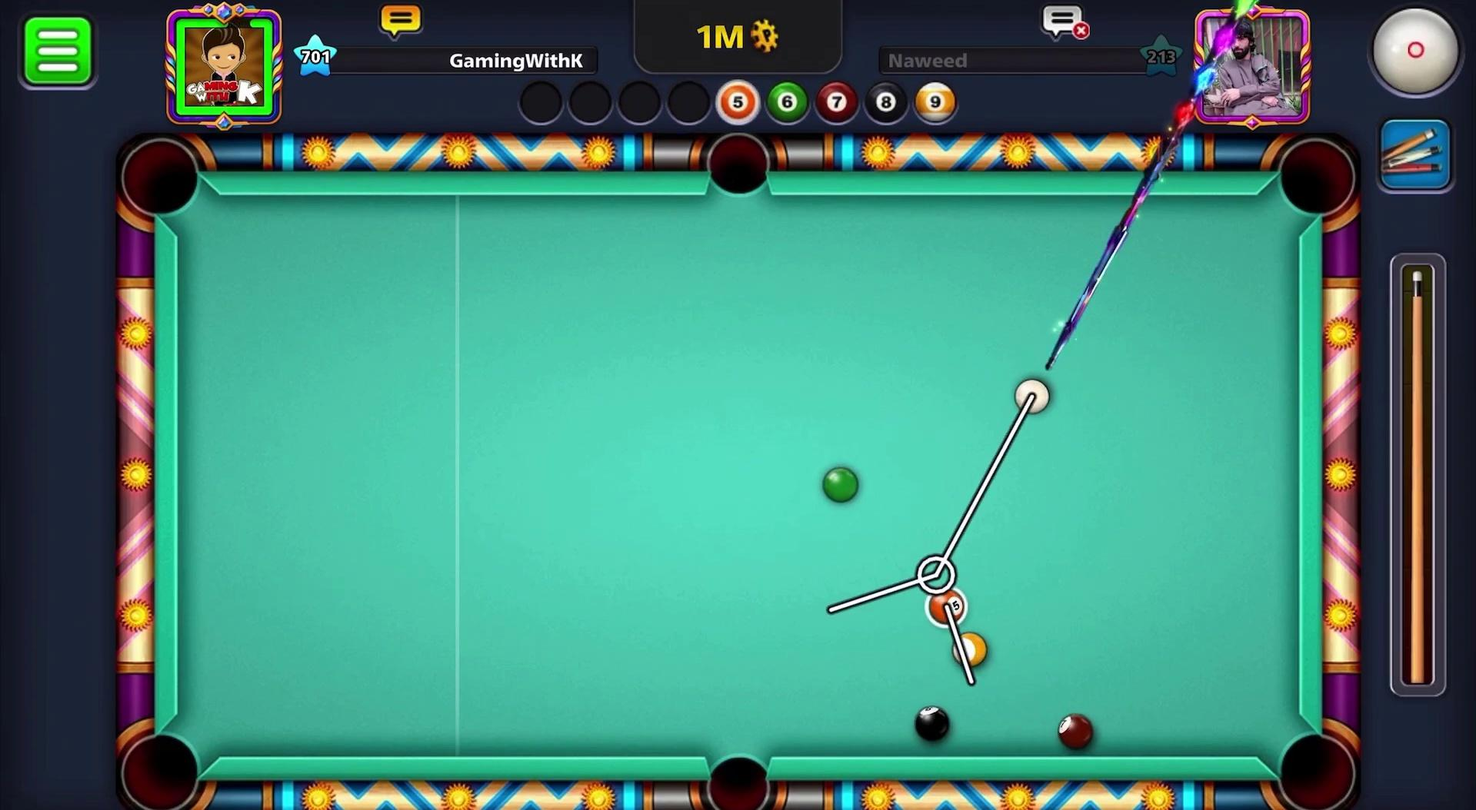Ball: (813, 459, 868, 514), (922, 586, 971, 632), (908, 702, 956, 745), (954, 626, 992, 676), (1052, 711, 1097, 752)
Force: (1385, 254, 1453, 705)
Guideline: (822, 390, 1037, 692)
Hole: (1263, 127, 1368, 231), (108, 128, 214, 231), (110, 717, 213, 809), (1265, 715, 1364, 809), (686, 739, 785, 809), (701, 125, 777, 204)
Play_Area: (177, 194, 1298, 759)
Spin: (1348, 0, 1475, 111)
White: (1007, 367, 1058, 420)
